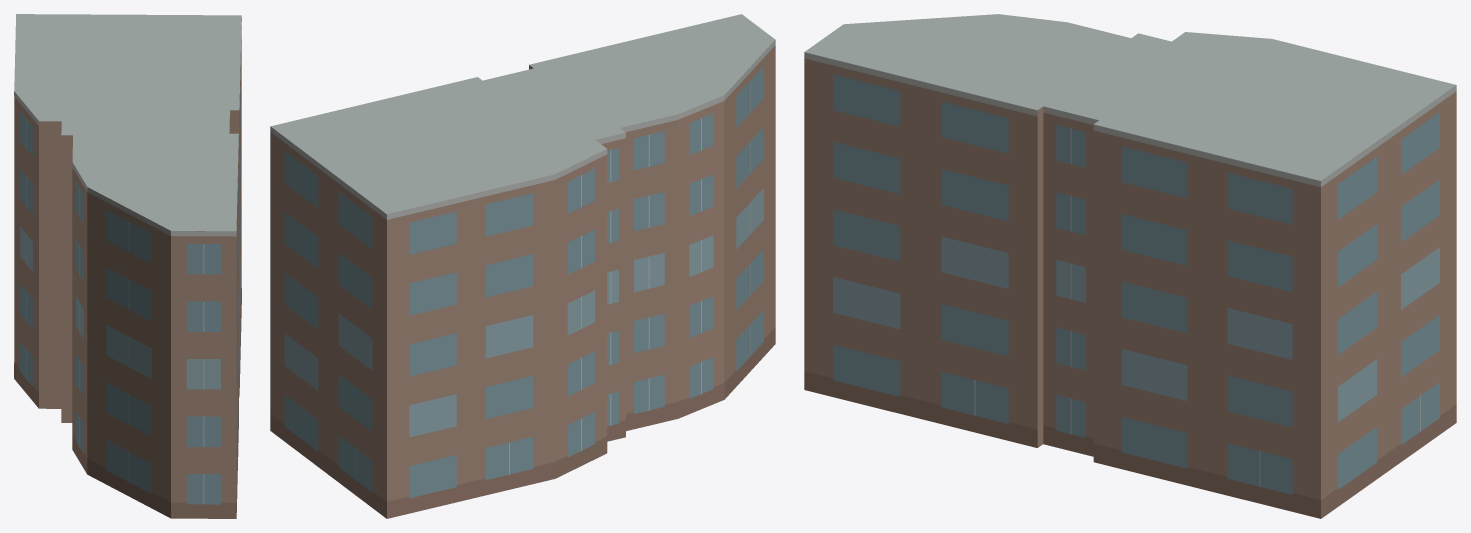
File: survey-upis-32939558.glb
3 renders of one model, left to right at view 1: azimuth 30°, elevation 25°; view 2: azimuth 150°, elevation 25°; view 3: azimuth 270°, elevation 25°, orthographic. The views are drawn at different scales.
Visible parts, largest first — view 1: survey-upis-32939558.tmp; view 2: survey-upis-32939558.tmp; view 3: survey-upis-32939558.tmp.
Boxes of the visible parts, x1,y1,x2,y2 form: survey-upis-32939558.tmp: [14, 14, 241, 518]; survey-upis-32939558.tmp: [270, 14, 775, 518]; survey-upis-32939558.tmp: [804, 14, 1456, 518].
Size of the model in its own units: 14.33 by 13.5 by 23.64.
